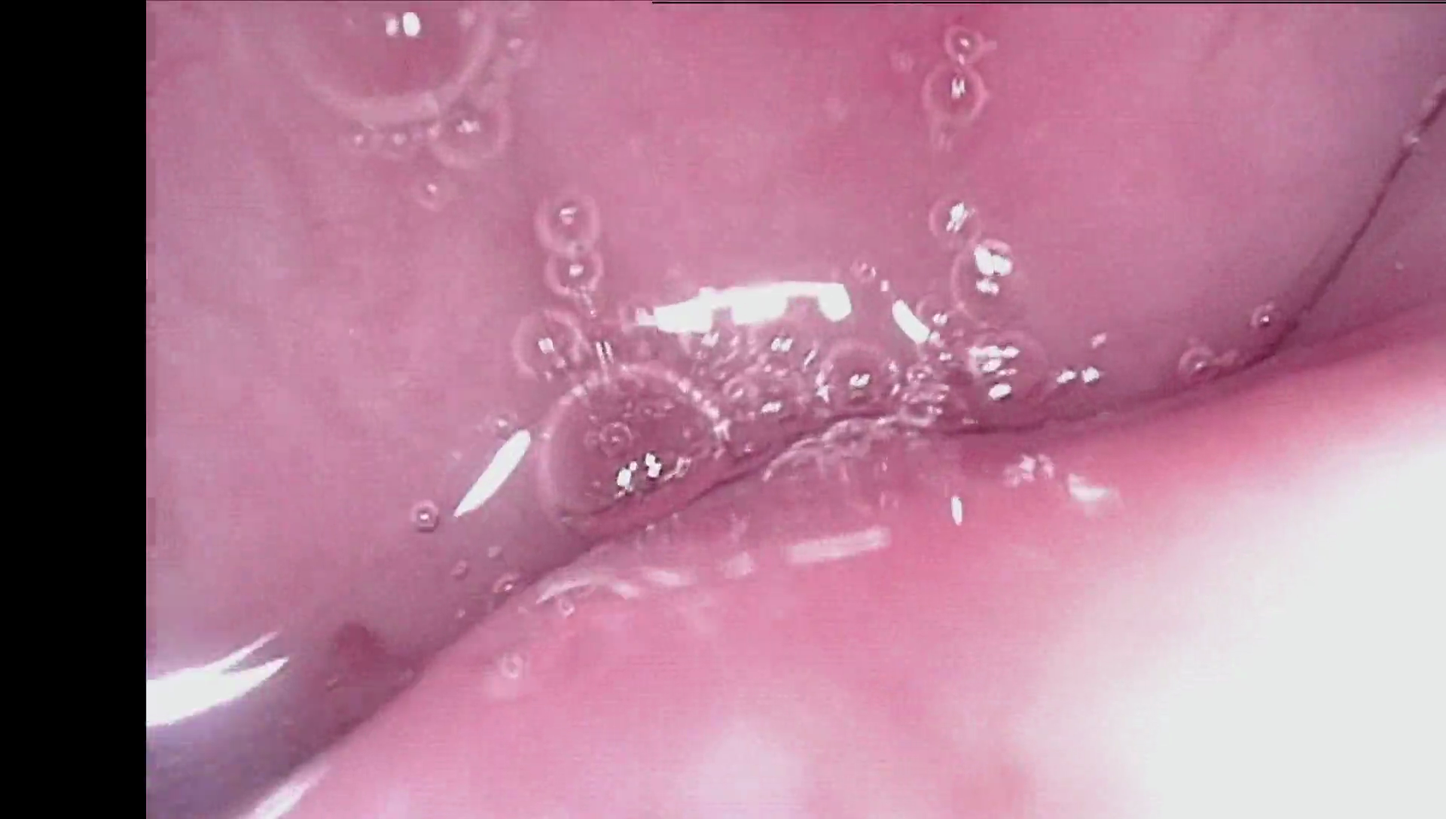close_wall: (888, 336, 1446, 819)
